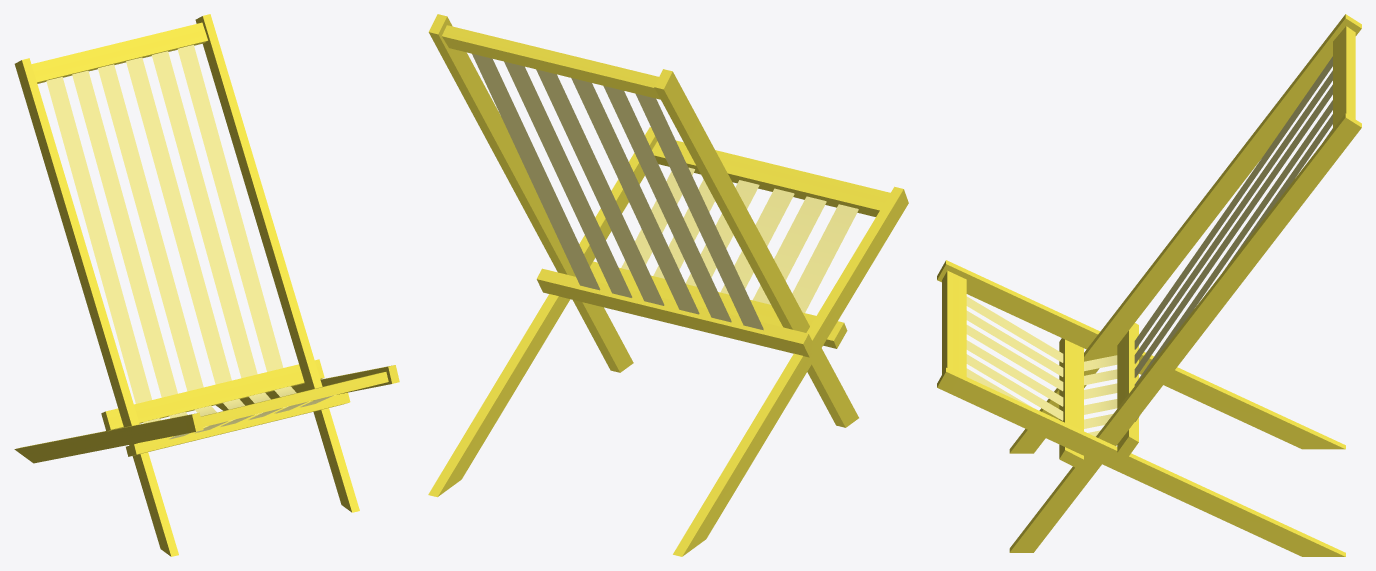
The model's file is lounge_chair_012.glb.
3 renders of one model, left to right at view 1: azimuth 30°, elevation 25°; view 2: azimuth 150°, elevation 25°; view 3: azimuth 270°, elevation 25°, orthographic. The views are drawn at different scales.
Parts seen in each view (by area): view 1: lounge_chair_012; view 2: lounge_chair_012; view 3: lounge_chair_012.
Boxes of the visible parts, <box> form: lounge_chair_012: <box>14,14,399,556</box>; lounge_chair_012: <box>428,14,908,556</box>; lounge_chair_012: <box>937,14,1361,556</box>.
Bounding box in the file's own units: 0.5496 × 0.9517 × 0.8415.
1 material, 1 textured.
